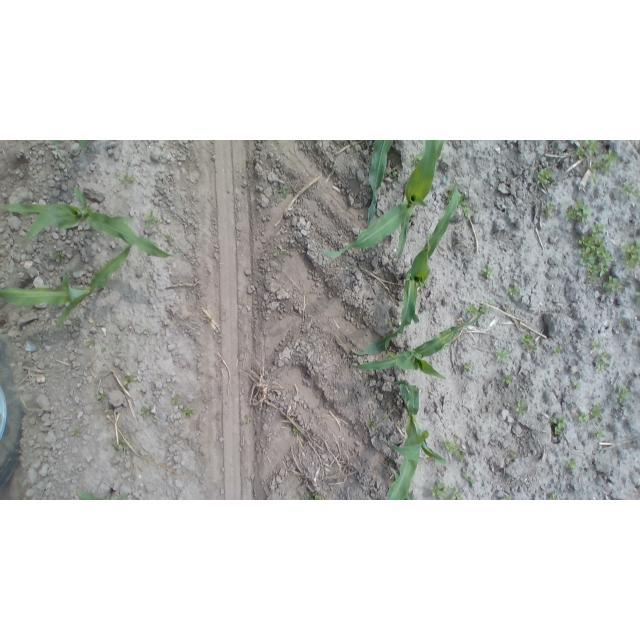Maize: (354, 185, 463, 355), (319, 141, 447, 260), (3, 186, 179, 260), (0, 237, 134, 332), (350, 312, 486, 379), (380, 380, 446, 500), (356, 141, 399, 241), (48, 140, 92, 166), (388, 464, 416, 501), (75, 489, 133, 500)
Weeds: (578, 223, 615, 279), (590, 148, 620, 185), (565, 200, 592, 223), (429, 481, 462, 499), (571, 141, 599, 160), (622, 240, 639, 270), (442, 439, 465, 461), (551, 414, 568, 437), (536, 167, 555, 187), (594, 351, 610, 374), (603, 276, 624, 293), (520, 331, 538, 350), (614, 384, 631, 404), (619, 182, 638, 199), (515, 398, 529, 418), (300, 489, 325, 500), (144, 212, 162, 227), (541, 201, 555, 220), (464, 304, 484, 317), (120, 172, 137, 187), (113, 438, 128, 452), (507, 285, 521, 300), (590, 404, 603, 420), (277, 182, 290, 198), (69, 426, 86, 438), (460, 202, 472, 219), (592, 425, 606, 439), (496, 349, 510, 363), (480, 266, 494, 280), (462, 471, 476, 485), (500, 371, 514, 385), (445, 186, 456, 203), (123, 374, 136, 388), (569, 377, 582, 391), (565, 458, 579, 471), (577, 410, 590, 424), (181, 407, 195, 419), (368, 419, 379, 434), (272, 248, 288, 258), (139, 406, 151, 419), (410, 154, 423, 166), (54, 249, 67, 260), (590, 341, 602, 352), (171, 394, 182, 406), (290, 424, 301, 436), (552, 346, 564, 357), (508, 449, 520, 460), (85, 339, 96, 350), (463, 363, 474, 374), (244, 156, 254, 168), (548, 491, 561, 500), (244, 414, 253, 425), (166, 231, 174, 243), (202, 318, 215, 325), (96, 391, 106, 400), (619, 319, 628, 329), (381, 413, 390, 423), (101, 346, 108, 355), (391, 170, 398, 178), (506, 494, 514, 500)
